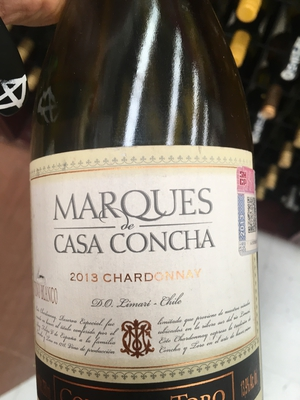marques de casa concha chardonnay: (29, 39, 261, 386)
